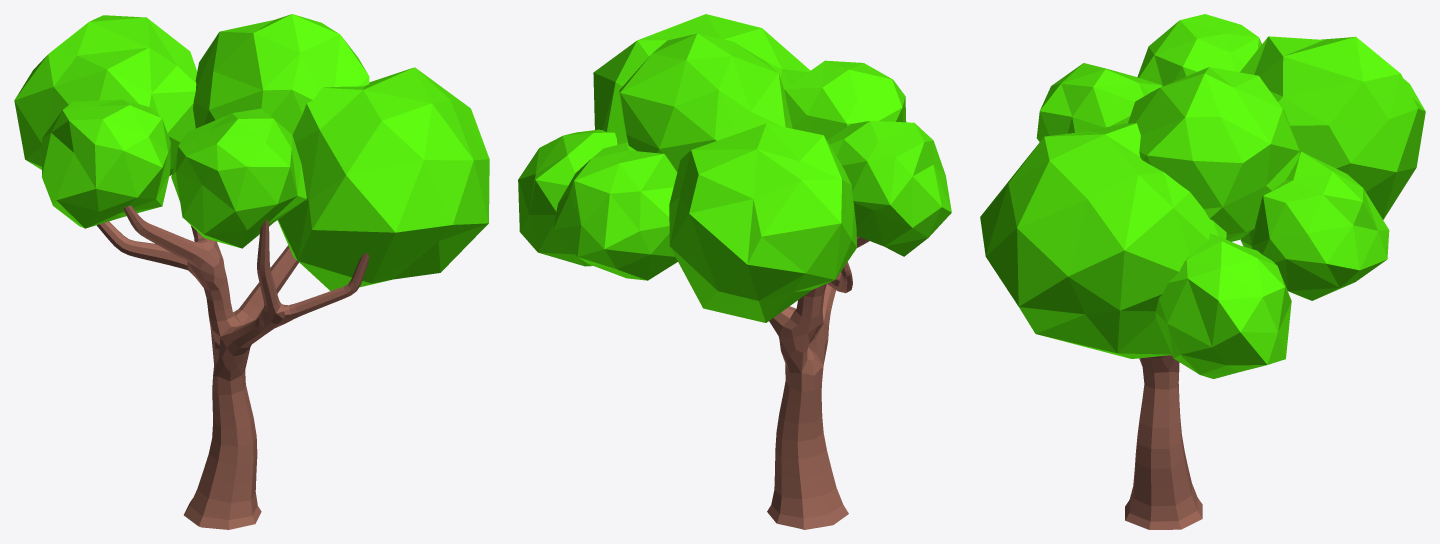
File: BlenderTree.fbx
3 renders of one model, left to right at view 1: azimuth 30°, elevation 25°; view 2: azimuth 150°, elevation 25°; view 3: azimuth 270°, elevation 25°, orthographic. The views are drawn at different scales.
Visible parts, largest first — view 1: leafs, wood; view 2: leafs, wood; view 3: leafs, wood.
Part boxes in pixels (x1,y1,x2,y2): leafs: [14, 14, 489, 290]; wood: [97, 205, 369, 529]; leafs: [518, 14, 951, 322]; wood: [767, 236, 869, 529]; leafs: [980, 14, 1425, 378]; wood: [1125, 355, 1202, 529].
Size of the model in its own units: 710 by 783 by 648.
